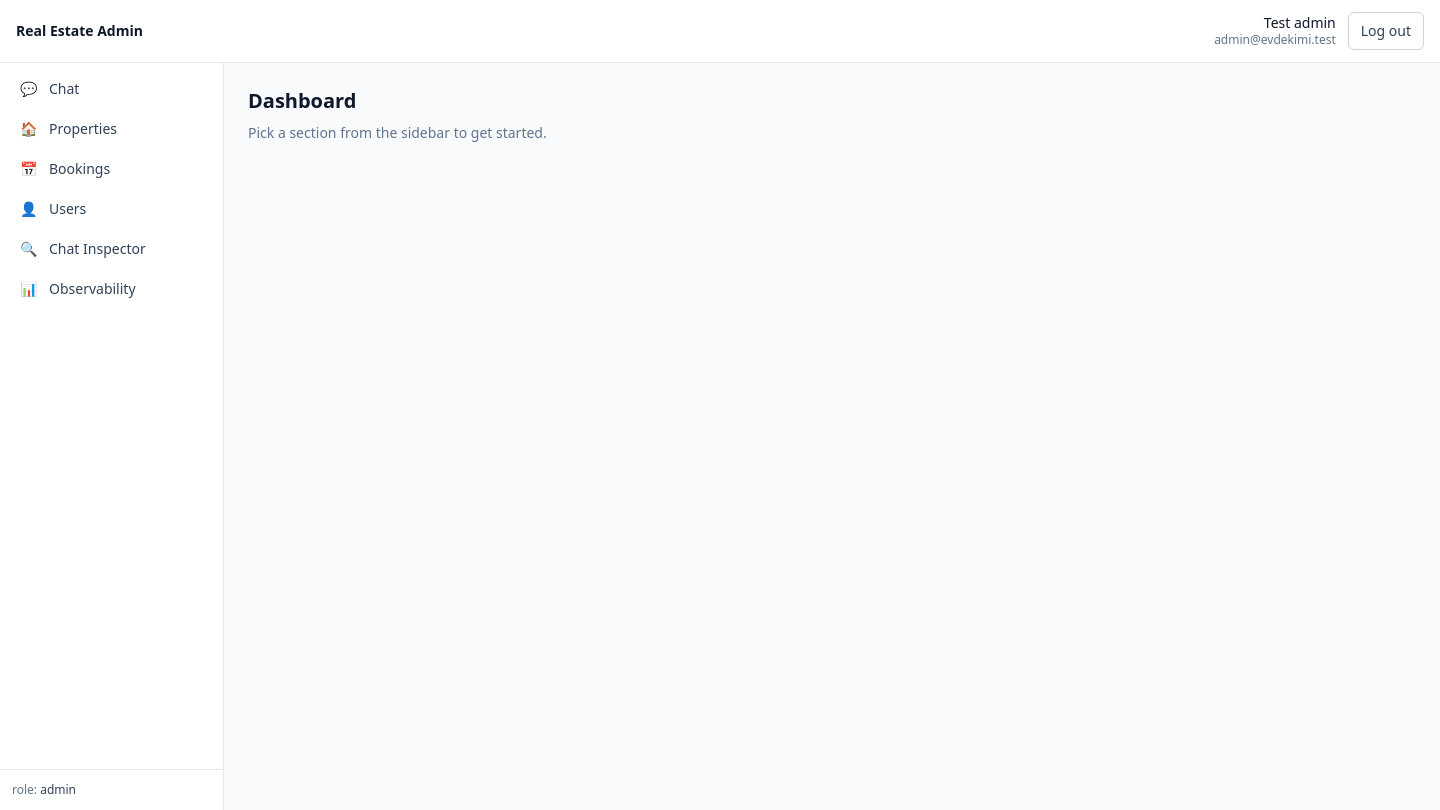
Test: logging out › keeps the user signed in and says so when logout fails
The image size is (1440, 810).
Click the button "Log out" at point(1386, 31), box [1348,12,1424,50]
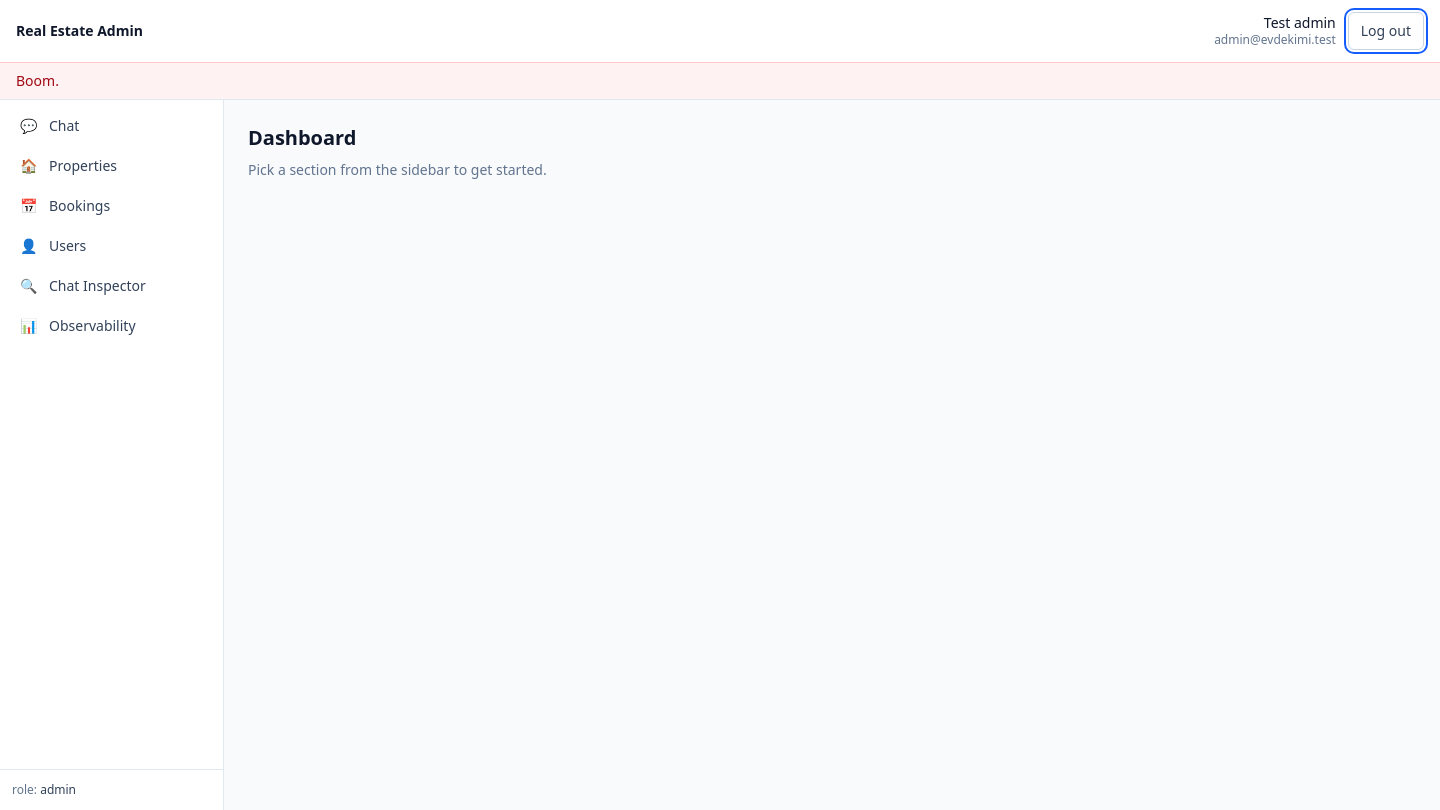
Expected: the message reads "Boom.", [16,71,59,90]
